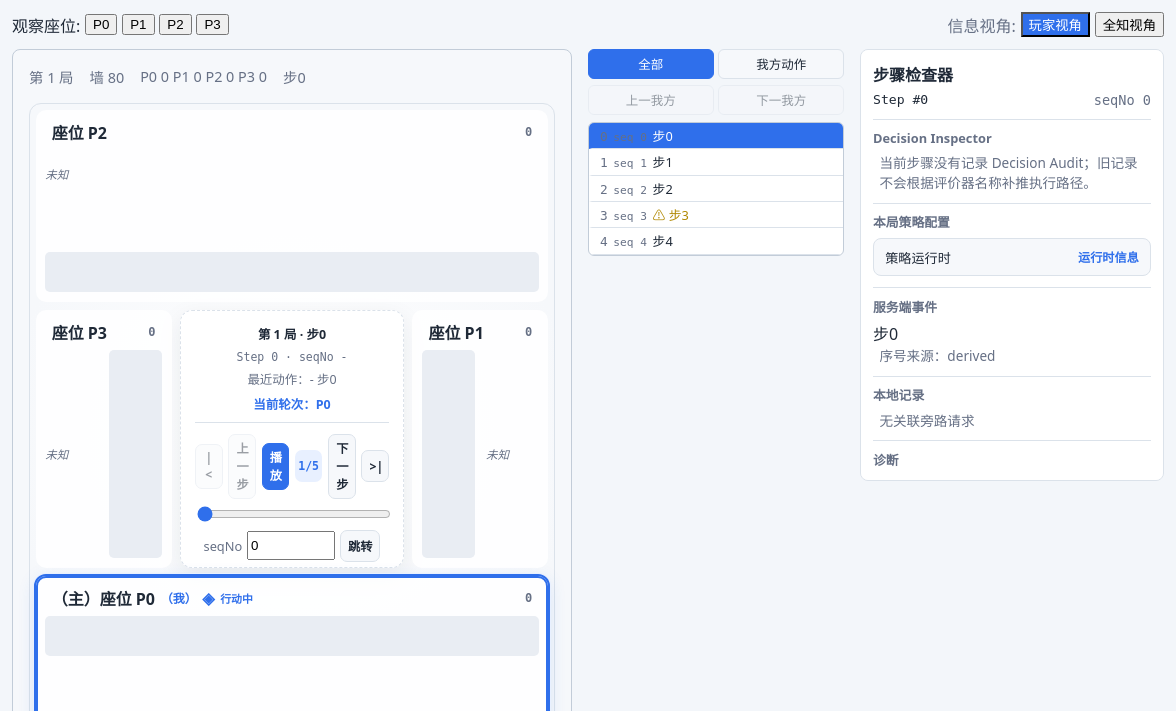
Test case: ReplayControls 步进与进度 › 按钮推进并更新计数
Expected: the text with test id "index" reads "1/5", [298,459,319,473]
Step 1. Click the button with test id "btn-next" → (342, 466), box [328,434,356,498]
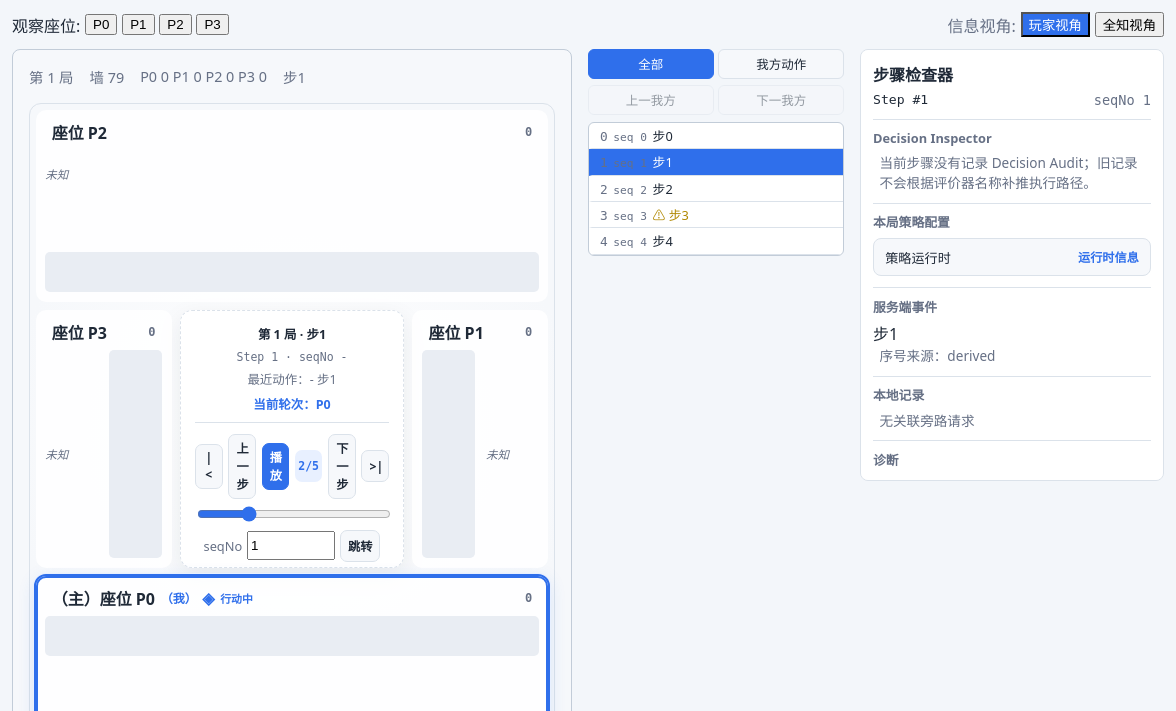
Now the text with test id "index" reads "2/5", box [298,459,319,473]
Step 2. Click the button with test id "btn-next" → (342, 466), box [328,434,356,498]
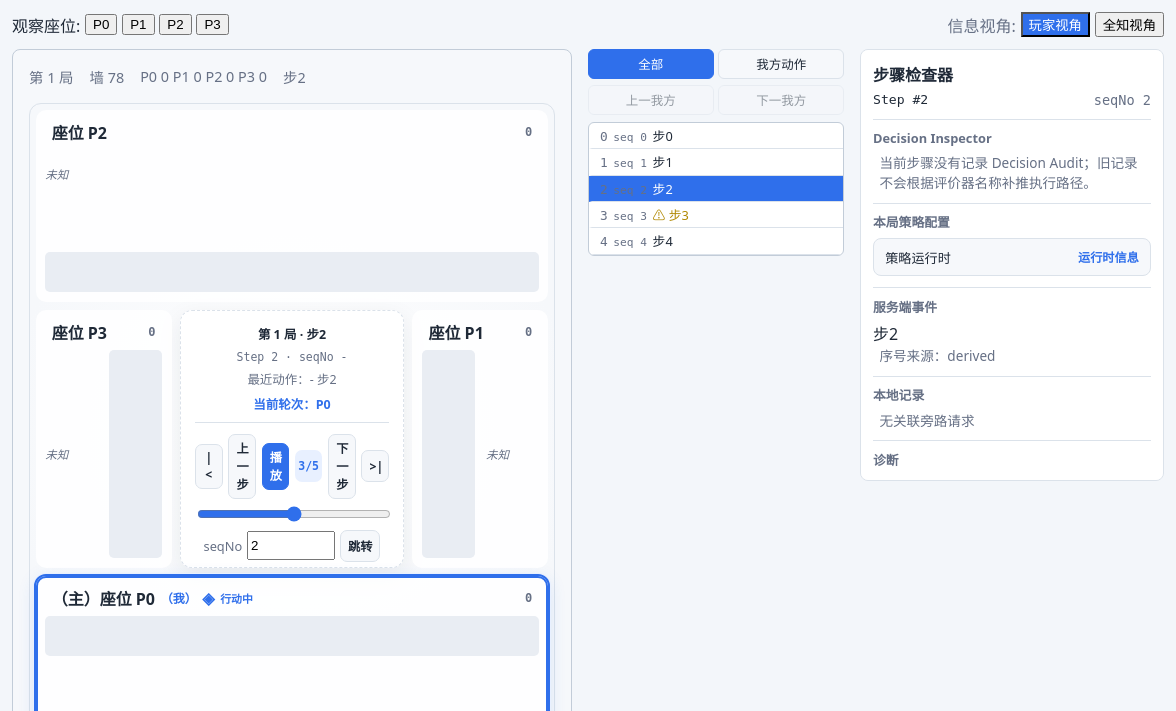
Step 3. Click the button with test id "btn-back" → (242, 466), box [228,434,256,498]
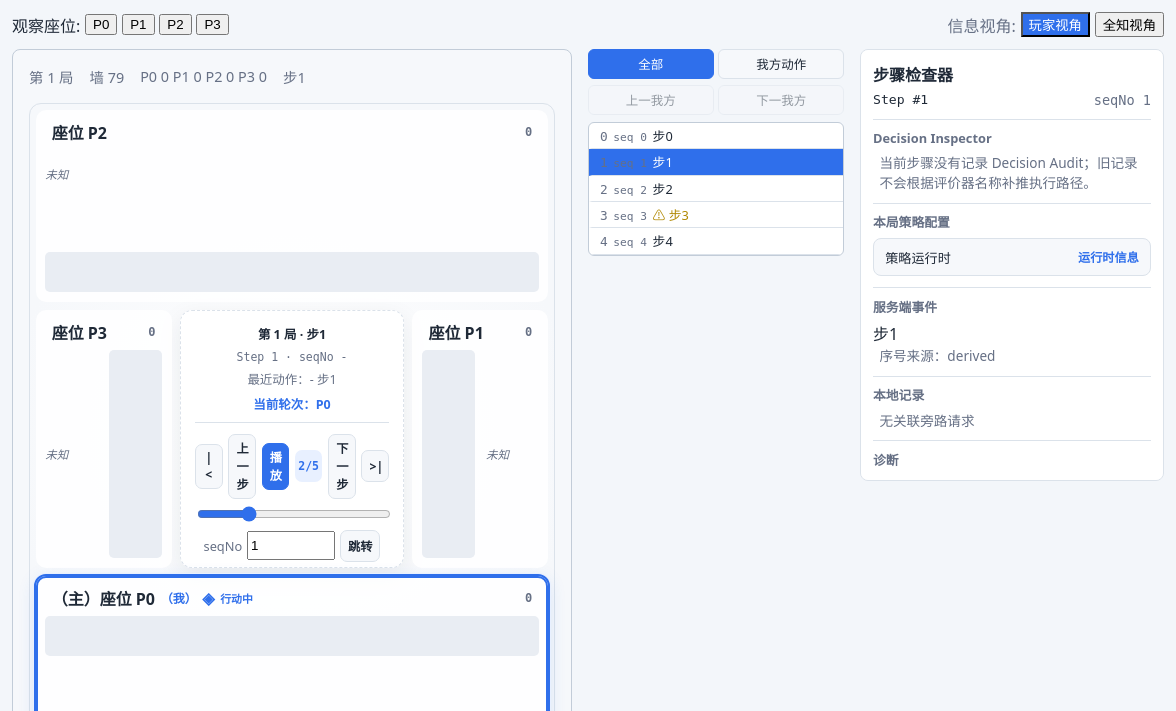
Now the text with test id "index" reads "2/5", box [298,459,319,473]
